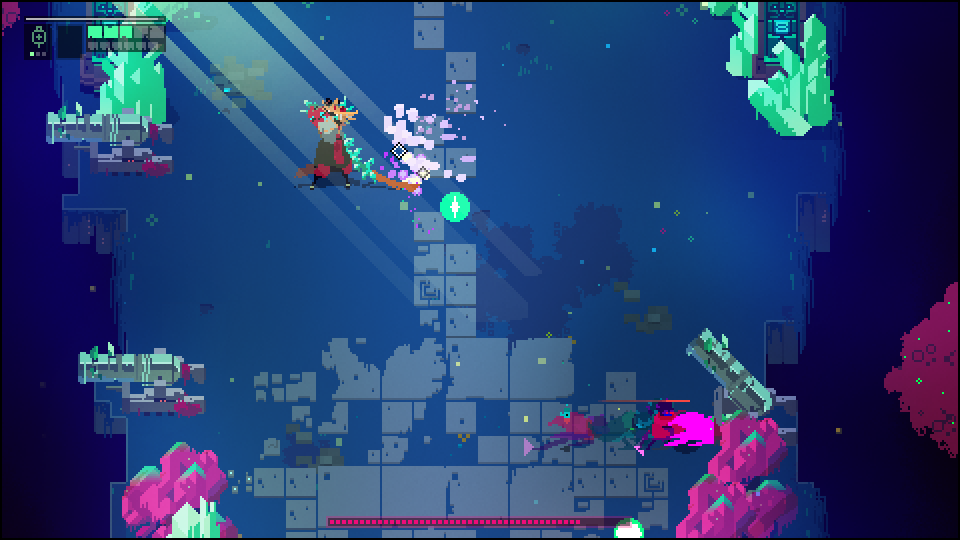hanged_man: (295, 95, 392, 193)
hanged_shot: (438, 190, 472, 226)
player: (666, 407, 735, 448)
